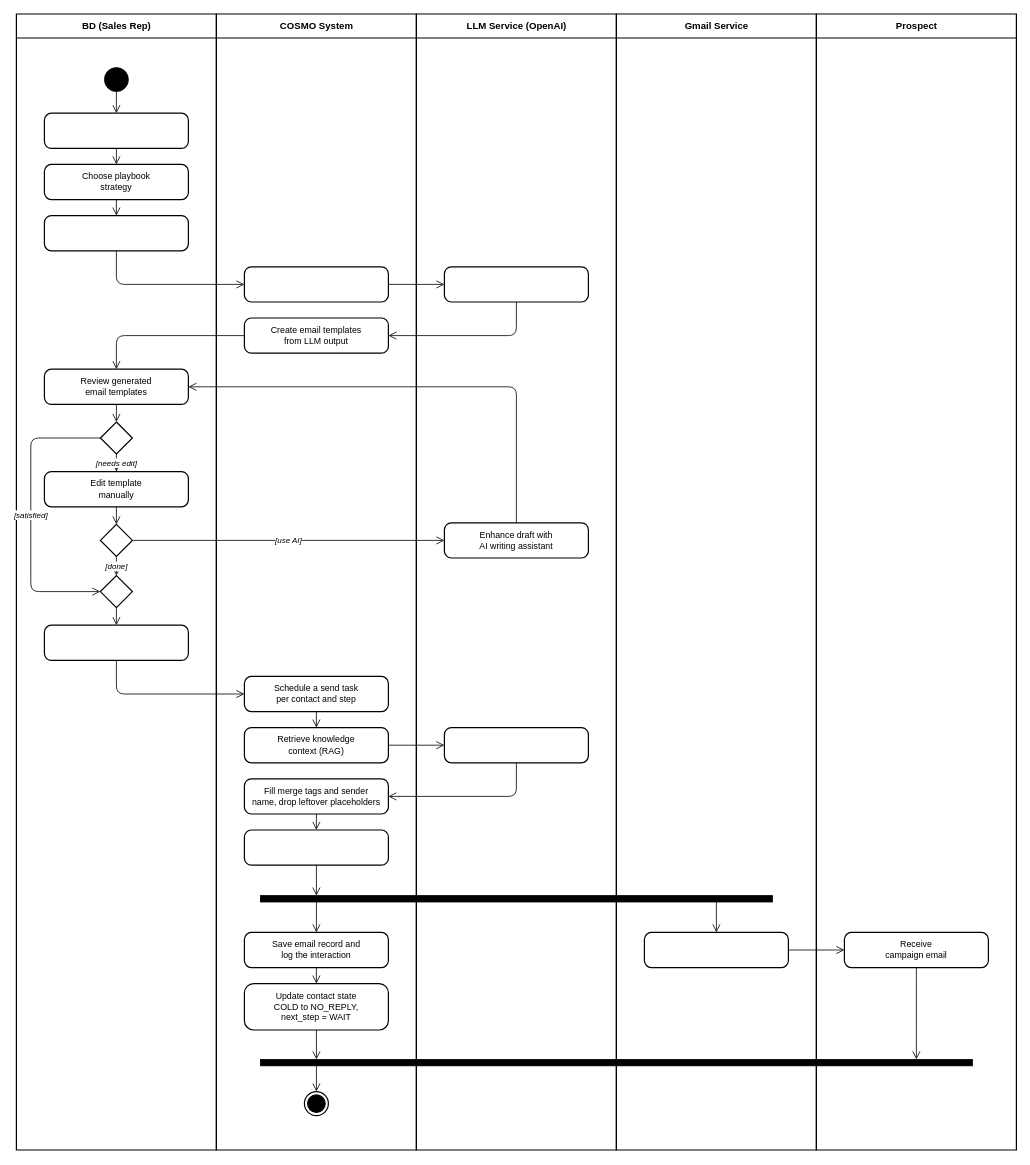
Image size: 1030x1165. Some labels were removed from this diagram. Here are the shapes that lost their labels. From the top down, the centre of each, then its label:
the point at 116,130: Select target contacts from contact list
the point at 116,233: Configure campaign name and settings
the point at 316,284: Build prompt from playbook + contacts
the point at 516,284: Generate multi-step email sequence
the point at 116,642: Activate campaign
the point at 516,745: Rewrite template for this contact
the point at 316,847: Send email request to Gmail API
the point at 716,949: Deliver email via Gmail
